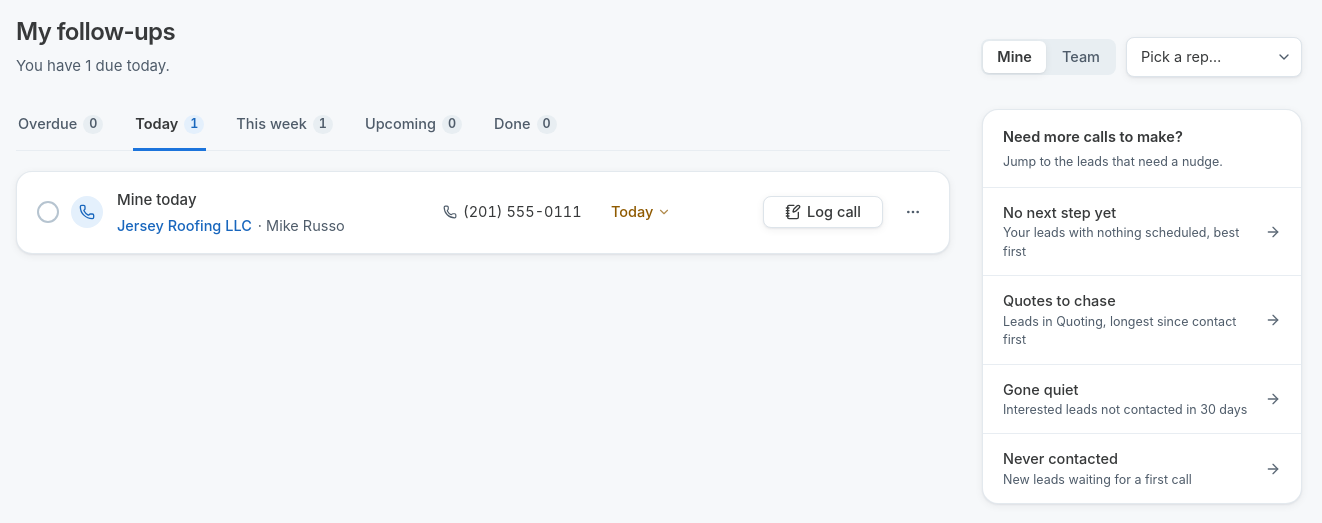
TasksPage › managers switch between their own, the team’s and one rep’s follow-ups
Expected: the text "Mine today" is shown, [117, 188, 196, 211]
Click the radio button labelled "Team" at (1081,57), box [1048, 41, 1114, 73]
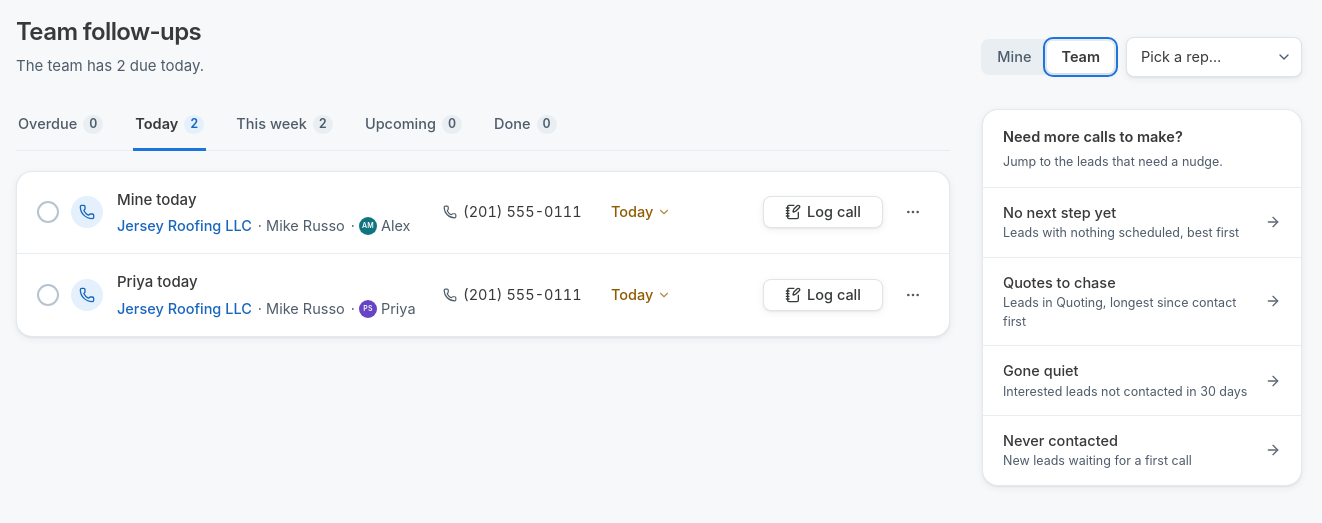
Expected: the heading "Team follow-ups" is shown, [16, 16, 204, 48]
Expected: the text "Priya today" is shown, [117, 270, 198, 294]
Select "Priya Shah" in the dropdown named "One rep's follow-ups" at (1214,57), box [1126, 37, 1302, 77]
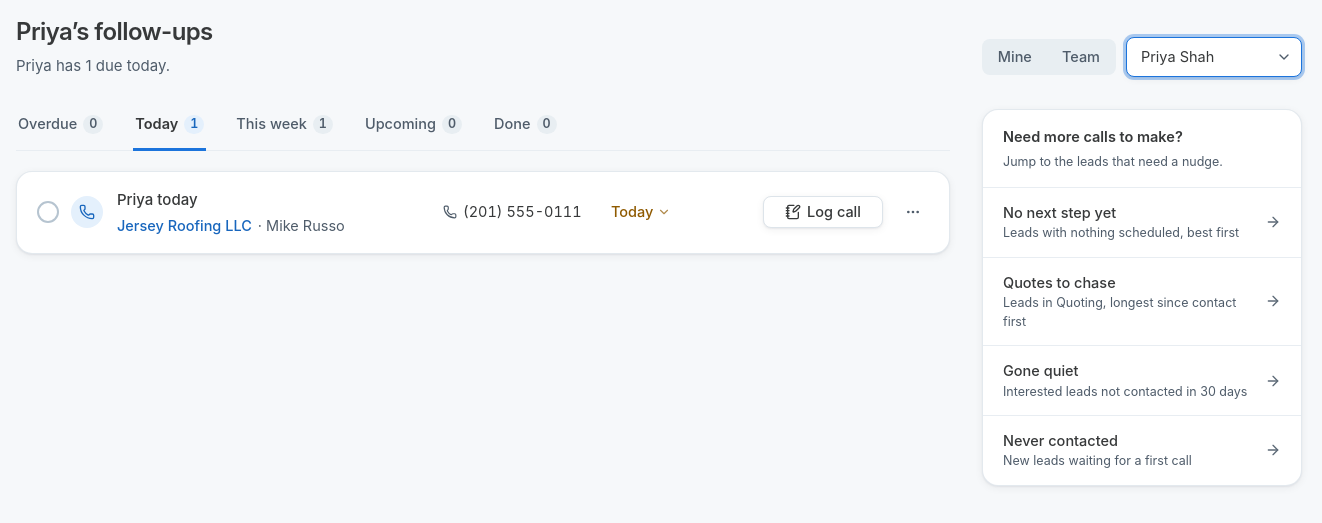
Expected: the heading "Priya’s follow-ups" is shown, [16, 16, 213, 48]
Expected: the text "Mine today" is gone
